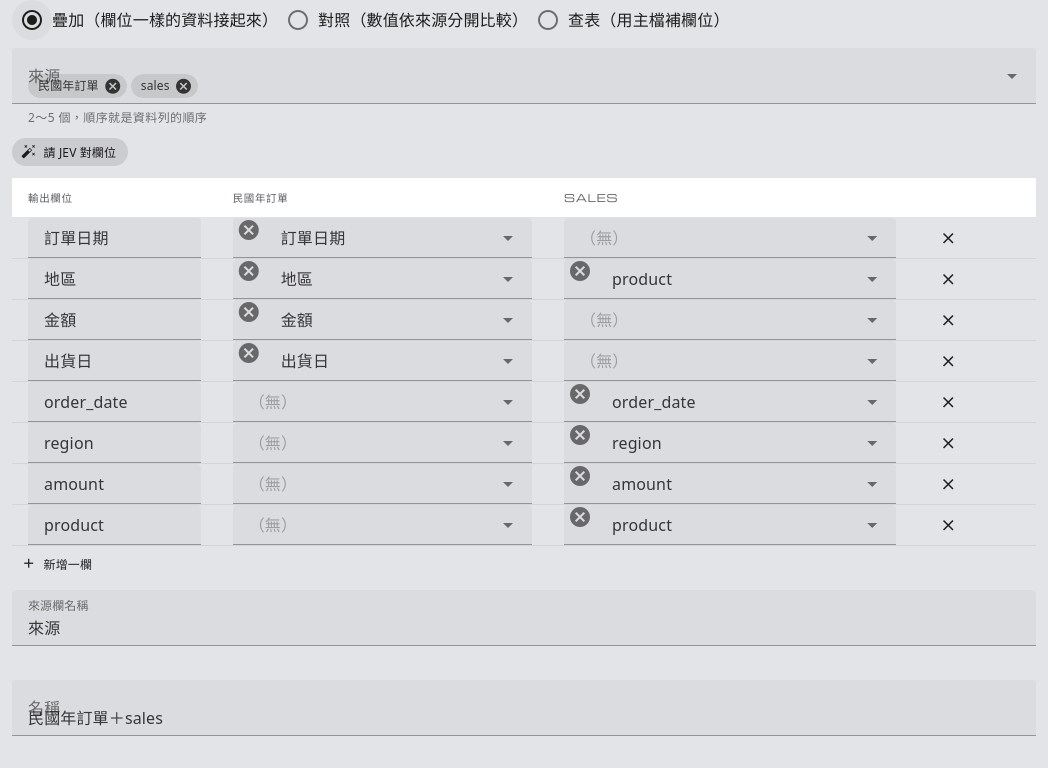
Test: MergeForm（JEV 對欄位） › never overwrites a cell the user already filled
The width and height of the screenshot is (1048, 768).
What coordinates should you click on to do the following:
click the button "請 JEV 對欄位"
I would click on:
 (70, 152)
Its box is [12,138,128,166].
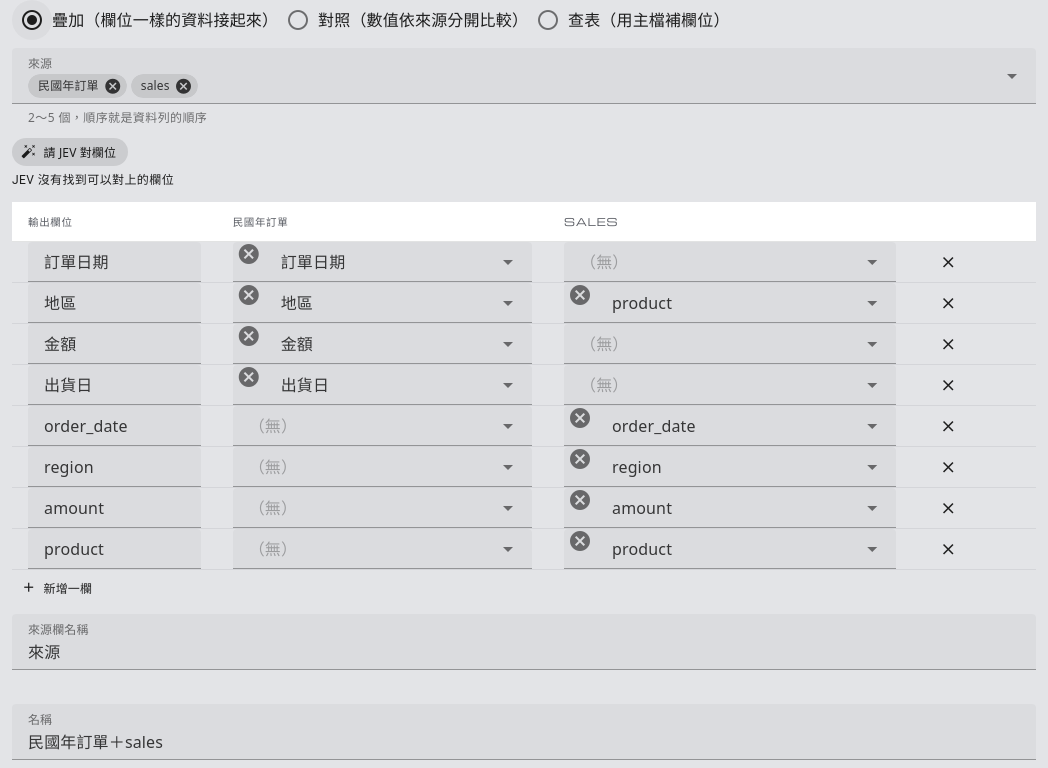
Check: the 1st text "product" is shown, box [612,291,672,315]
Check: the text "JEV 沒有找到可以對上的欄位" is shown, box [12,173,174,187]
